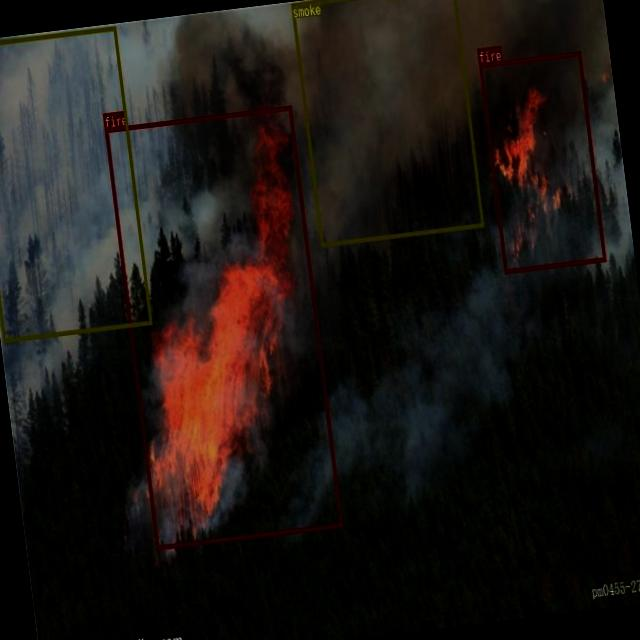fire: (104, 105, 341, 549), (478, 51, 606, 273)
smoke: (290, 0, 484, 246), (0, 25, 151, 341)
